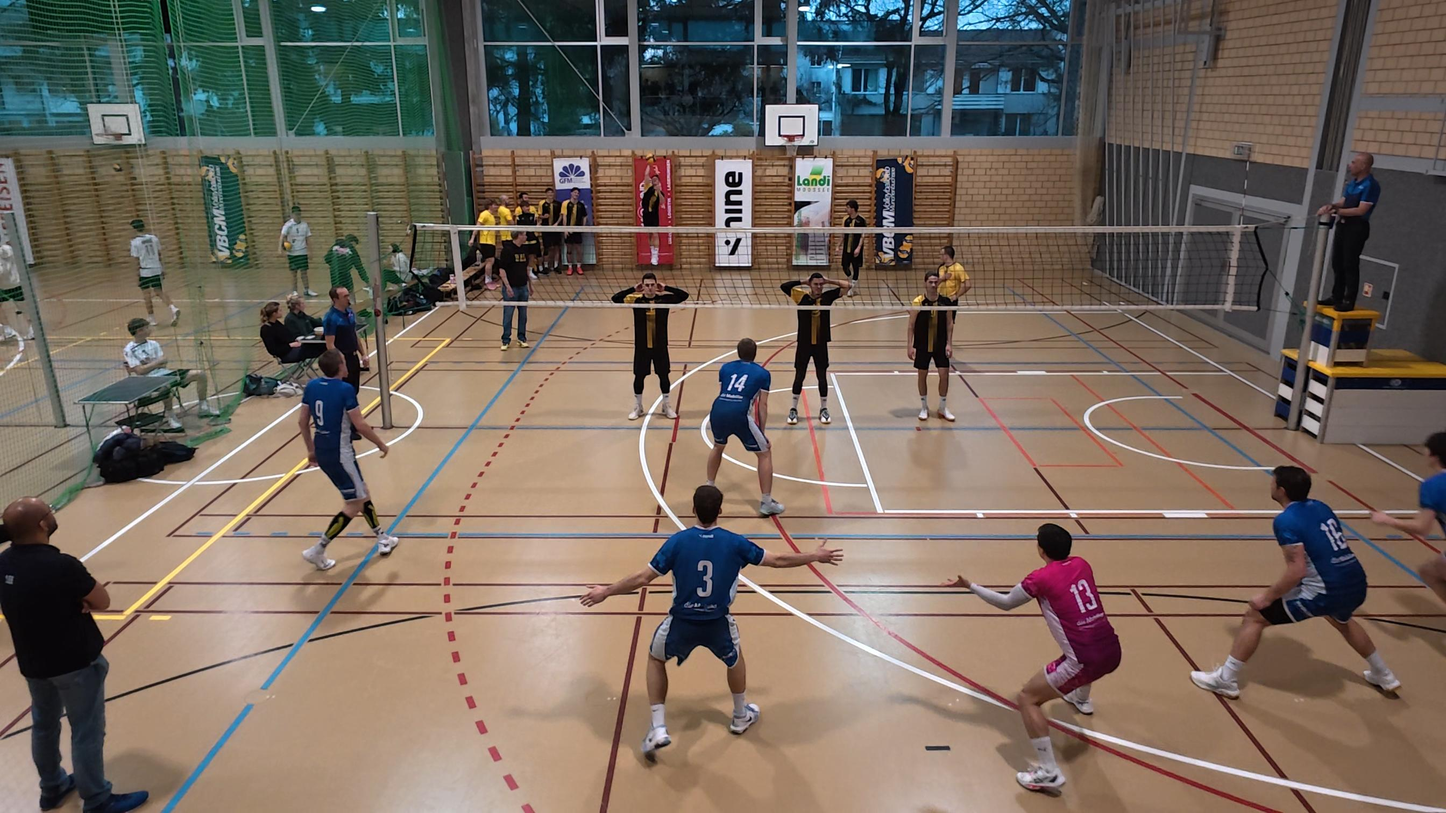battuta: (633, 146, 671, 271)
